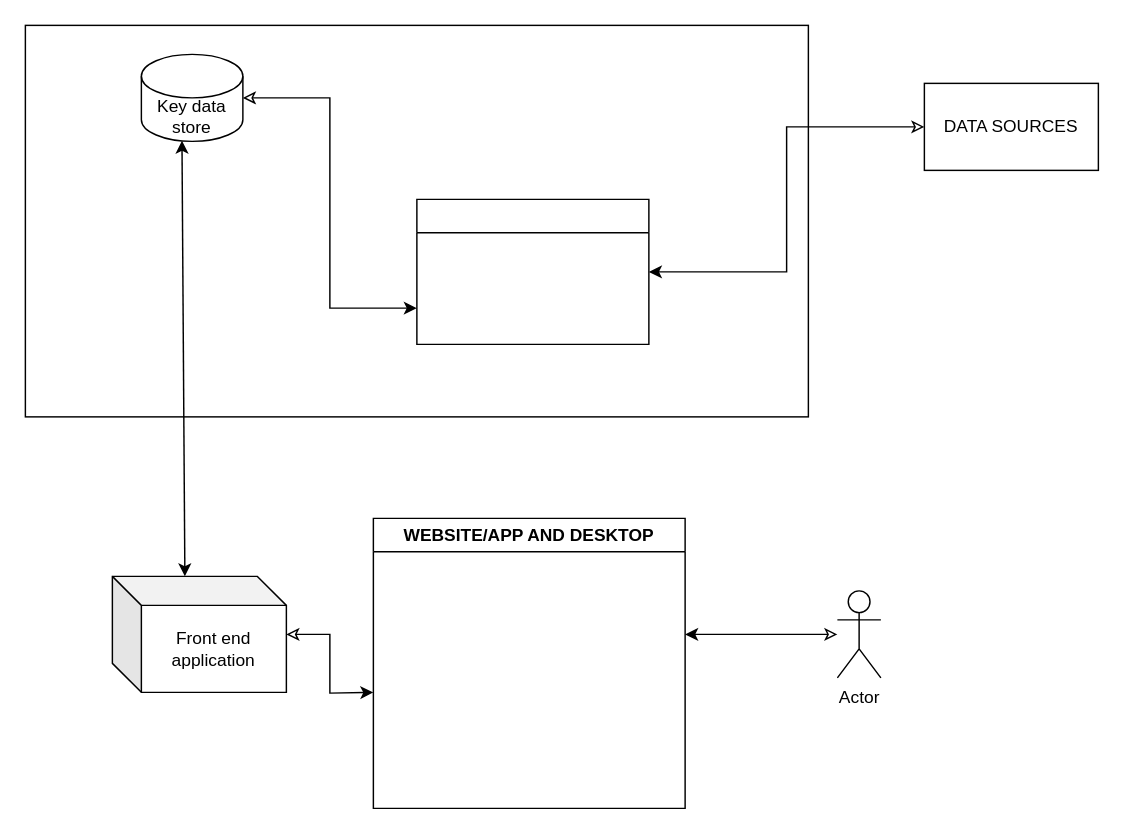
This 1124x834 diagram has some shape labels left out. The box of each missing label's shape, as (x1, y1, x2, y2) in pixels:
AWS CLOUD: (24, 24, 808, 417)
Data collection (processes): (415, 198, 649, 344)
